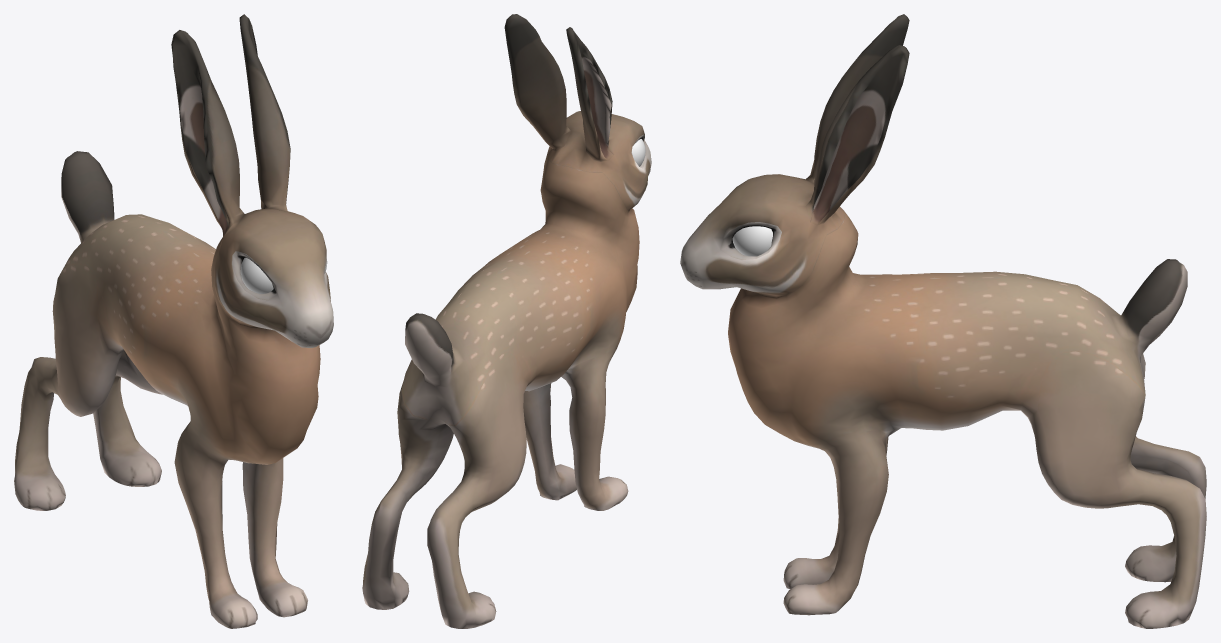
The model's file is raw.glb.
3 renders of one model, left to right at view 1: azimuth 30°, elevation 25°; view 2: azimuth 150°, elevation 25°; view 3: azimuth 270°, elevation 25°, orthographic. The views are drawn at different scales.
Visible parts, largest first — view 1: ash_hare_ash_hare; view 2: ash_hare_ash_hare; view 3: ash_hare_ash_hare.
Boxes of the visible parts, x1=… form: ash_hare_ash_hare: x1=14, y1=14, x2=333, y2=628; ash_hare_ash_hare: x1=362, y1=14, x2=651, y2=628; ash_hare_ash_hare: x1=680, y1=14, x2=1206, y2=628.
Bounding box in the file's own units: 0.6423 × 2.47 × 2.09.
1 material, 1 textured.
